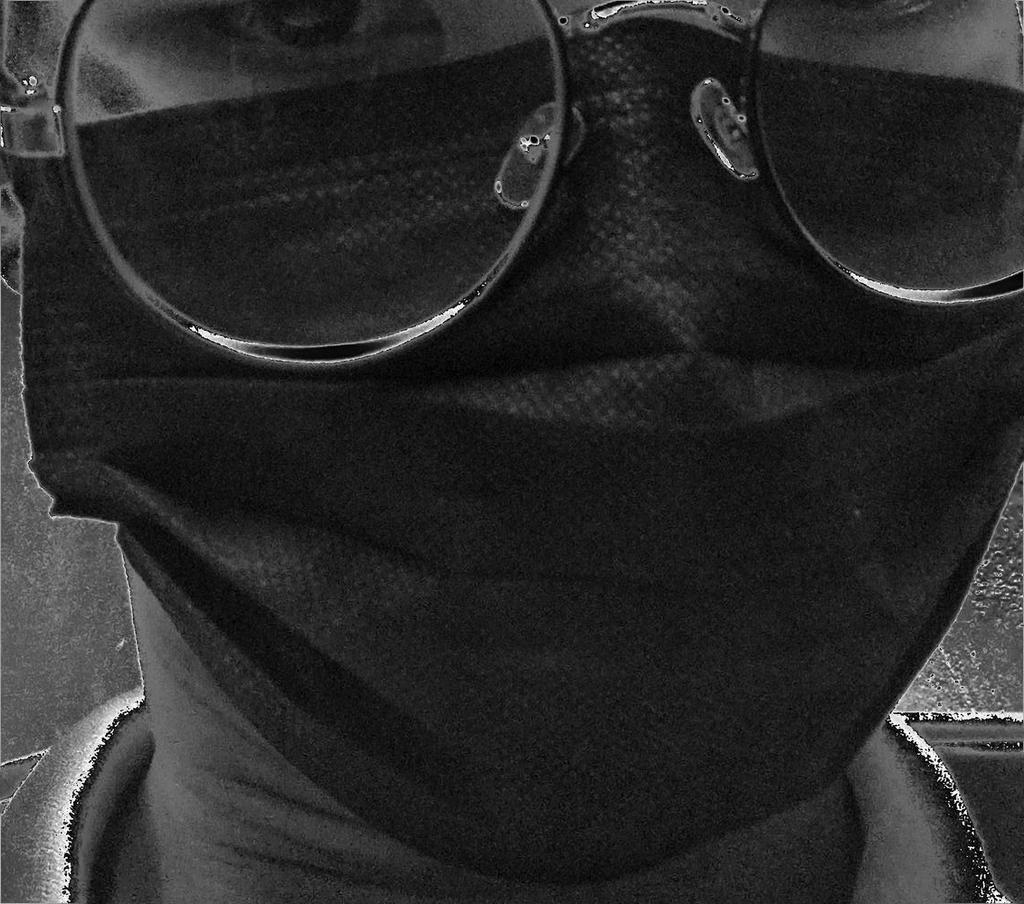Low GSM: (12, 16, 1021, 885)
